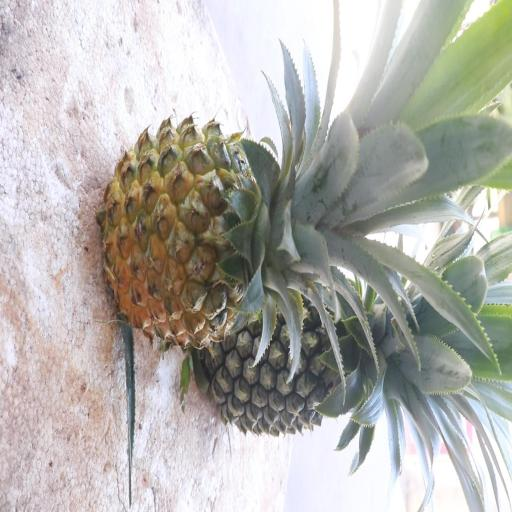Pineapple - v8 v1: (98, 106, 399, 354)
